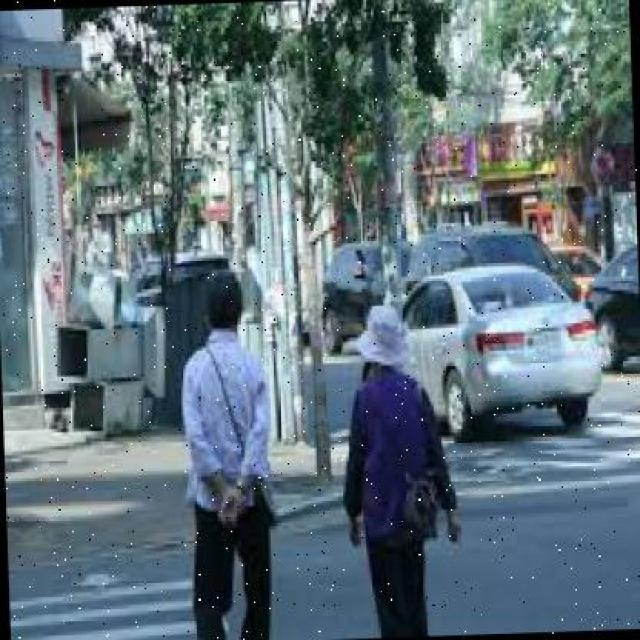obstacle: (340, 303, 460, 635), (176, 274, 276, 638)
